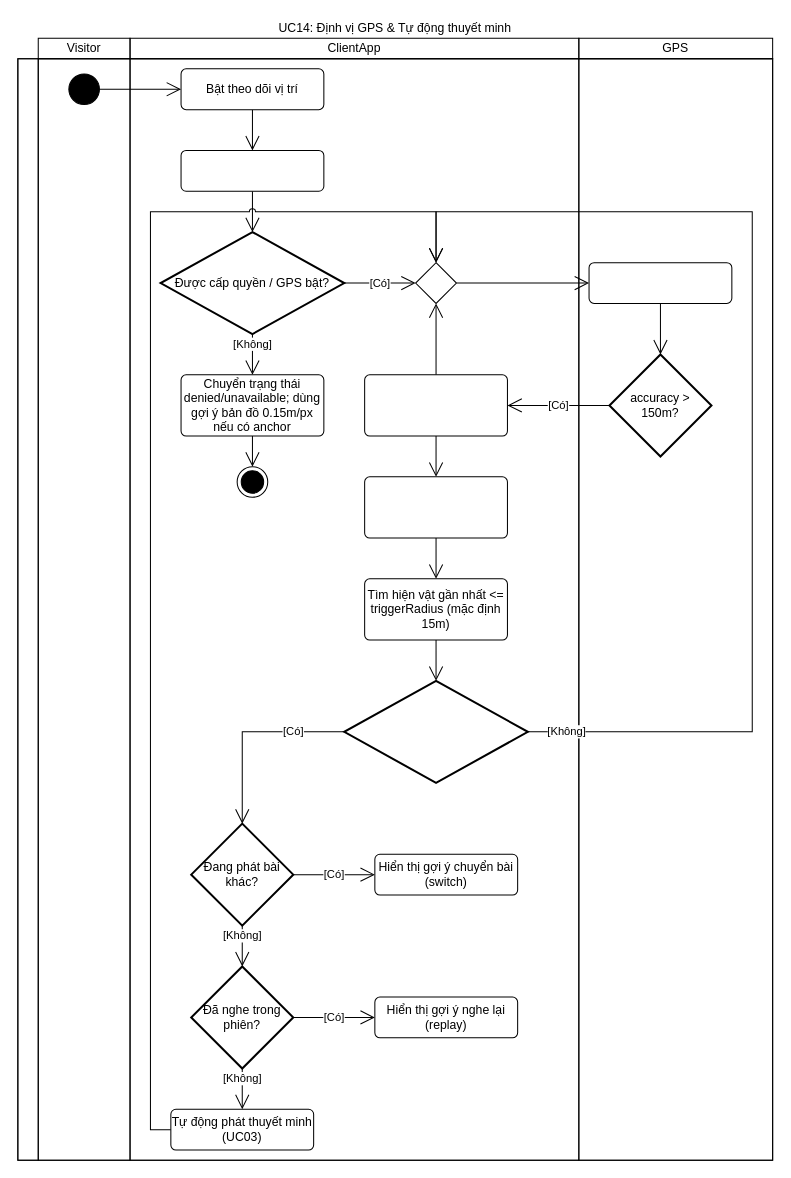
This 791x1178 diagram has some shape labels left out. The centre of each missing label's shape, as x and y in pixels:
"Có hiện vật trong vùng & hasScannedQr=true?" belongs at (x=435, y=731).
"Nhận tọa độ (lat, lng, accuracy)" belongs at (x=660, y=282).
"Tính khoảng cách Haversine tới các hiện vật" belongs at (x=435, y=507).
"Yêu cầu quyền định vị GPS" belongs at (x=252, y=170).
"Đặt trạng thái low-accuracy, không tự kích hoạt" belongs at (x=435, y=405).
